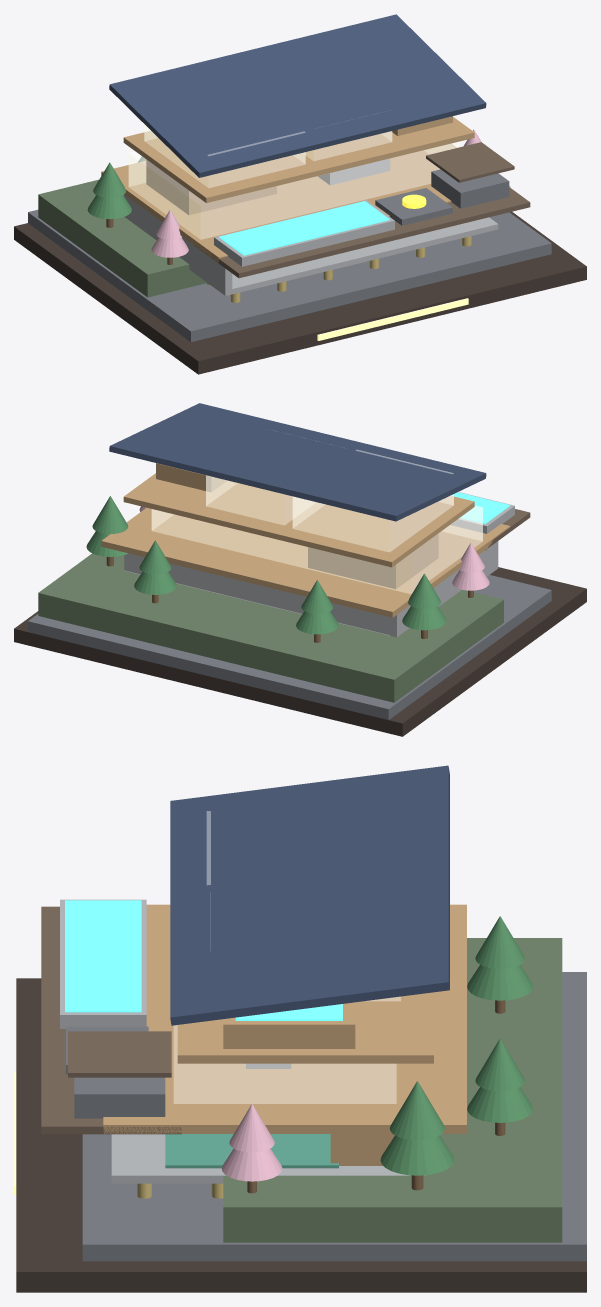
The model's file is maqueta_01_kamakurayama.glb.
3 views of the same model, one above another, from view 1: azimuth 30°, elevation 25°; view 2: azimuth 150°, elevation 25°; view 3: azimuth 270°, elevation 25° (orthographic). The views are drawn at different scales.
Parts seen in each view (by area): view 1: SolarRoofMain, MaquetaPlinth, BedrockLayer, 1F_GlassWalls, 1F_MainSlab, 2F_Slab, UpperCliffSlope, B1F_Slab, 1F_CantileverDeck, InfinityPoolWater, InfinityPoolBasin, MegaParrillaPergola (+12 smaller); view 2: UpperCliffSlope, SolarRoofMain, 1F_MainSlab, 2F_Slab, MaquetaPlinth, BedrockLayer, 1F_GlassWalls, 2F_MasterSuite, B1F_BackWall, 1F_CoreWalls, 2F_AtelierAyame, B1F_SideWallL (+13 smaller); view 3: SolarRoofMain, UpperCliffSlope, MaquetaPlinth, 1F_MainSlab, BedrockLayer, 2F_Slab, 1F_GlassWalls, InfinityPoolWater, 1F_CantileverDeck, MegaParrillaPergola, B1F_Slab, B1F_DojoMat (+13 smaller).
Part boxes in pixels (bbox=[...]): SolarRoofMain: bbox=[109, 14, 486, 177]; MaquetaPlinth: bbox=[14, 212, 586, 374]; BedrockLayer: bbox=[28, 209, 551, 341]; 1F_GlassWalls: bbox=[128, 142, 459, 239]; 1F_MainSlab: bbox=[101, 144, 510, 262]; 2F_Slab: bbox=[123, 117, 474, 203]; UpperCliffSlope: bbox=[38, 179, 206, 297]; B1F_Slab: bbox=[129, 217, 498, 295]; 1F_CantileverDeck: bbox=[194, 187, 530, 278]; InfinityPoolWater: bbox=[219, 201, 389, 255]; InfinityPoolBasin: bbox=[214, 200, 394, 266]; MegaParrillaPergola: bbox=[426, 142, 514, 182]; UpperCliffSlope: bbox=[38, 553, 503, 702]; SolarRoofMain: bbox=[109, 403, 486, 521]; 1F_MainSlab: bbox=[101, 508, 510, 617]; 2F_Slab: bbox=[123, 473, 474, 567]; MaquetaPlinth: bbox=[14, 567, 586, 736]; BedrockLayer: bbox=[28, 575, 551, 719]; 1F_GlassWalls: bbox=[151, 505, 482, 593]; 2F_MasterSuite: bbox=[292, 450, 453, 551]; B1F_BackWall: bbox=[124, 553, 401, 636]; 1F_CoreWalls: bbox=[308, 533, 438, 589]; 2F_AtelierAyame: bbox=[206, 475, 292, 525]; B1F_SideWallL: bbox=[390, 541, 498, 637]; SolarRoofMain: bbox=[170, 765, 449, 1025]; UpperCliffSlope: bbox=[223, 938, 562, 1242]; MaquetaPlinth: bbox=[16, 978, 586, 1292]; 1F_MainSlab: bbox=[103, 904, 466, 1133]; BedrockLayer: bbox=[82, 972, 586, 1261]; 2F_Slab: bbox=[177, 992, 433, 1063]; 1F_GlassWalls: bbox=[174, 1025, 396, 1103]; InfinityPoolWater: bbox=[65, 900, 141, 1012]; 1F_CantileverDeck: bbox=[41, 906, 181, 1134]; MegaParrillaPergola: bbox=[68, 1031, 171, 1077]; B1F_Slab: bbox=[111, 1134, 425, 1183]; B1F_DojoMat: bbox=[165, 1134, 338, 1168].
Size of what is drawn, in the model's own units: 16.8 by 7.26 by 13.86.
